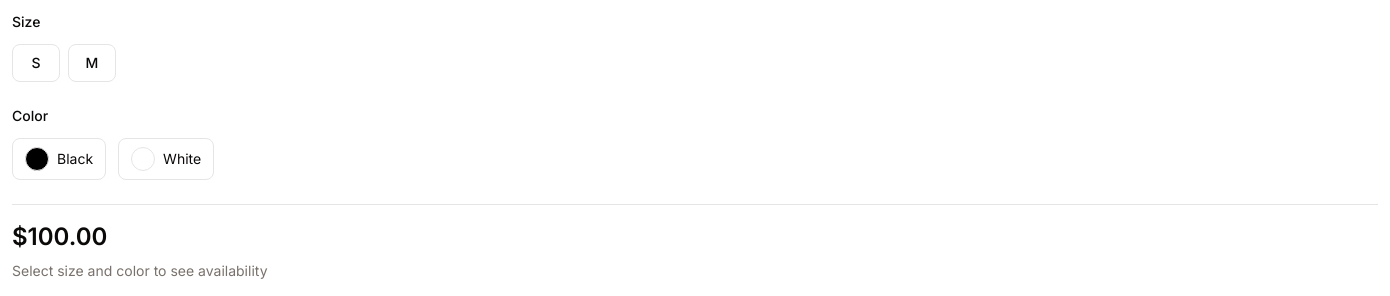
VariantSelector › updates selected color when color button clicked
Click the radio button labelled "Black". click: point(59, 159)
box: [12,138,106,180]
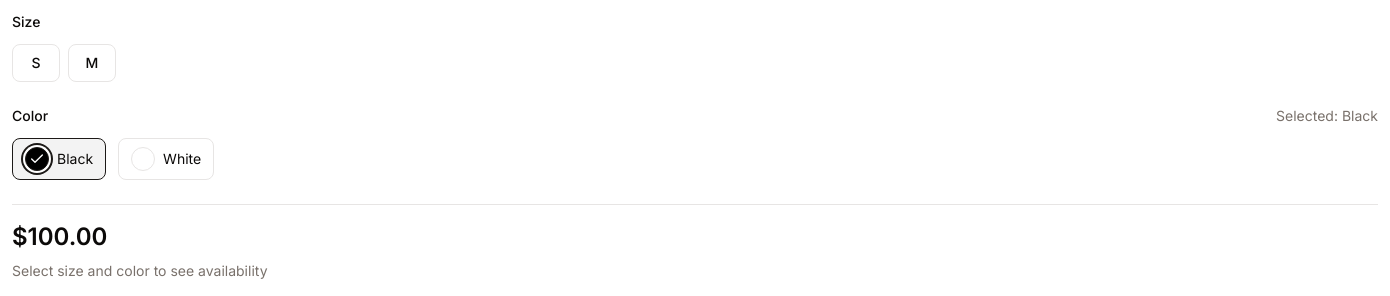
Result: the text "Selected: Black" is shown at [1276,106,1378,126]
